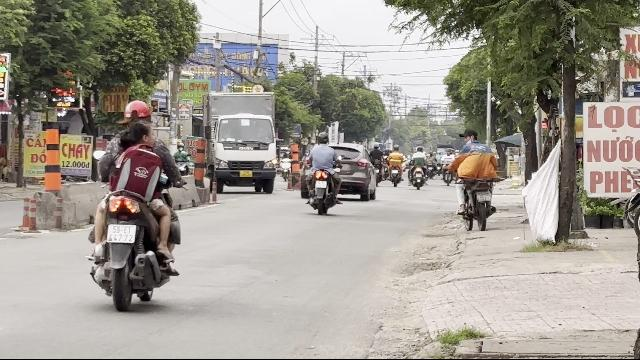helmet: (122, 100, 152, 124)
licenseplate: (106, 224, 136, 244), (477, 192, 491, 200)
motorcyclist: (83, 98, 185, 310), (452, 128, 502, 230)
nohelmet: (128, 121, 154, 145), (458, 128, 478, 144)
